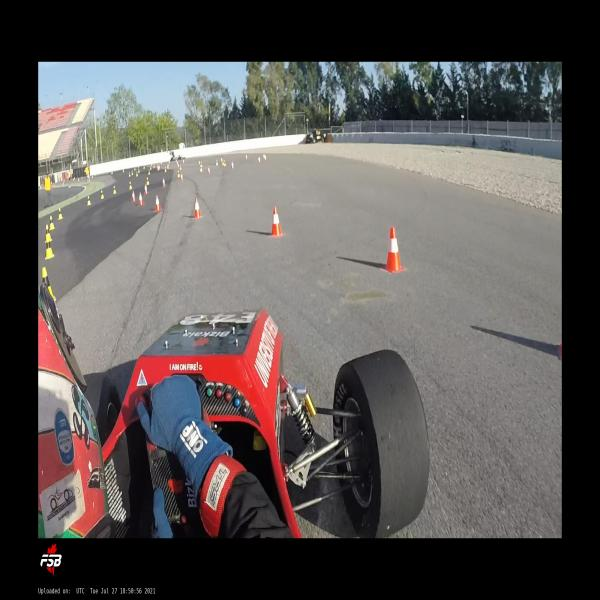orange_cone: (382, 226, 406, 273), (269, 206, 285, 238), (192, 197, 202, 219), (154, 194, 162, 212), (138, 192, 145, 206), (143, 184, 149, 195), (131, 189, 136, 202), (179, 173, 184, 181), (262, 152, 266, 162), (231, 160, 235, 170), (162, 178, 166, 188), (257, 155, 261, 164), (207, 166, 211, 175), (245, 153, 248, 160)
yellow_cone: (42, 267, 57, 302), (44, 236, 54, 259), (44, 223, 53, 242), (49, 215, 56, 230), (57, 207, 64, 220), (87, 195, 92, 206), (100, 190, 105, 199), (129, 181, 133, 190), (146, 176, 150, 185), (113, 186, 117, 194), (198, 160, 203, 166), (222, 159, 226, 166), (164, 166, 168, 172), (200, 164, 203, 172), (177, 169, 180, 177), (136, 170, 139, 176), (148, 168, 151, 174), (216, 160, 219, 166), (128, 171, 131, 177), (138, 168, 141, 173), (179, 166, 181, 172)
